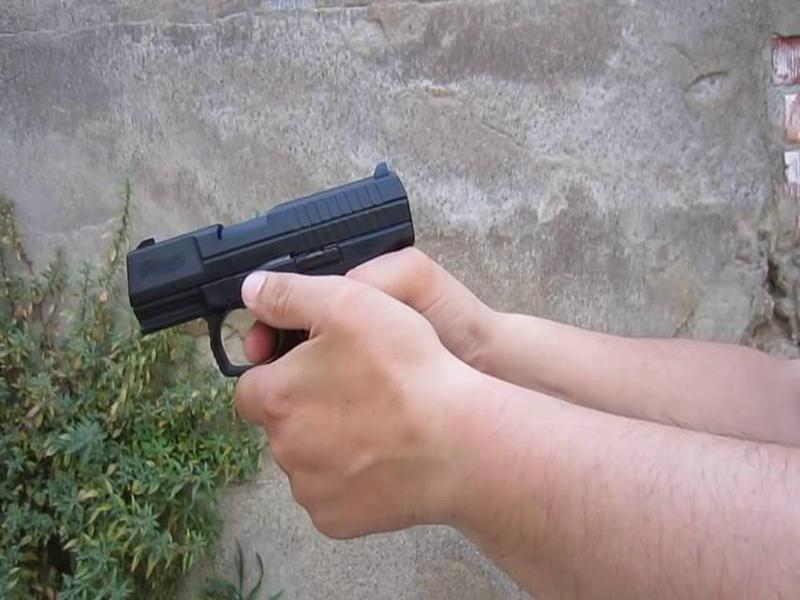Pistola: (110, 150, 431, 384)
